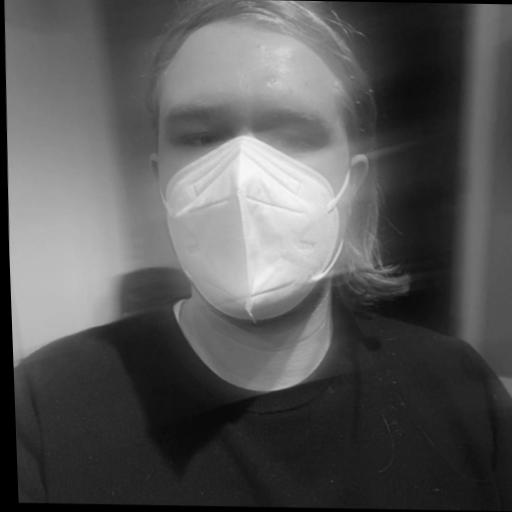mask: (123, 0, 408, 323)
